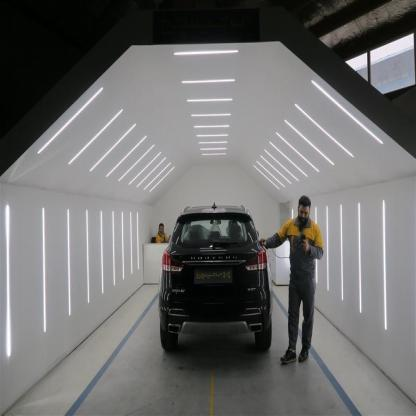Car: (151, 193, 283, 357)
